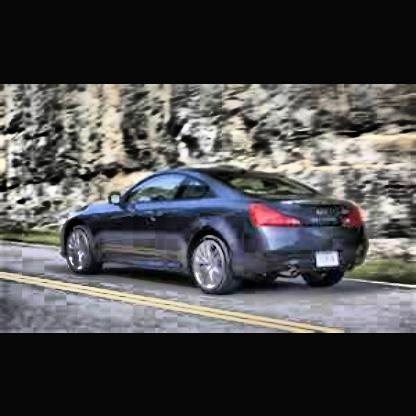Infiniti G Coupe IPL 2012: (59, 167, 368, 295)
